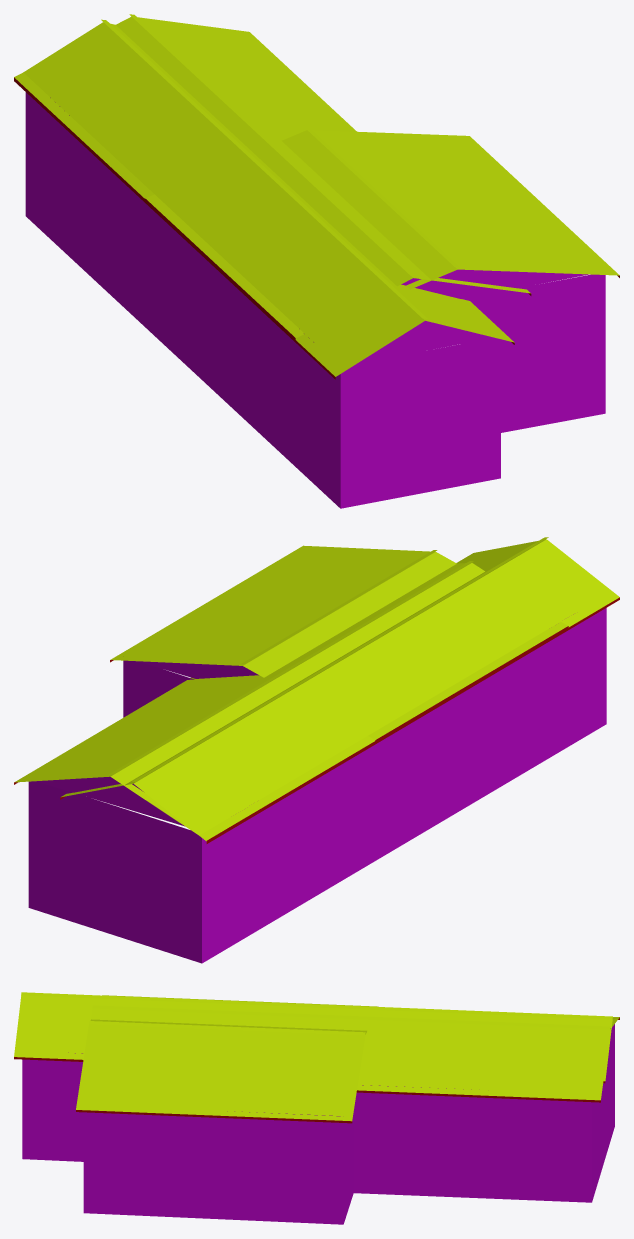
The model's file is bgj_388.glb.
3 views of the same model, one above another, from view 1: azimuth 30°, elevation 25°; view 2: azimuth 150°, elevation 25°; view 3: azimuth 270°, elevation 25° (orthographic). The views are drawn at different scales.
Visible parts, largest first — view 1: bgj_388; view 2: bgj_388; view 3: bgj_388.
Part boxes in pixels (<box>): bgj_388: <box>14,14,619,508</box>; bgj_388: <box>14,537,619,963</box>; bgj_388: <box>14,992,619,1224</box>.
Size of the model in its own units: 15.48 by 7.69 by 30.72.
